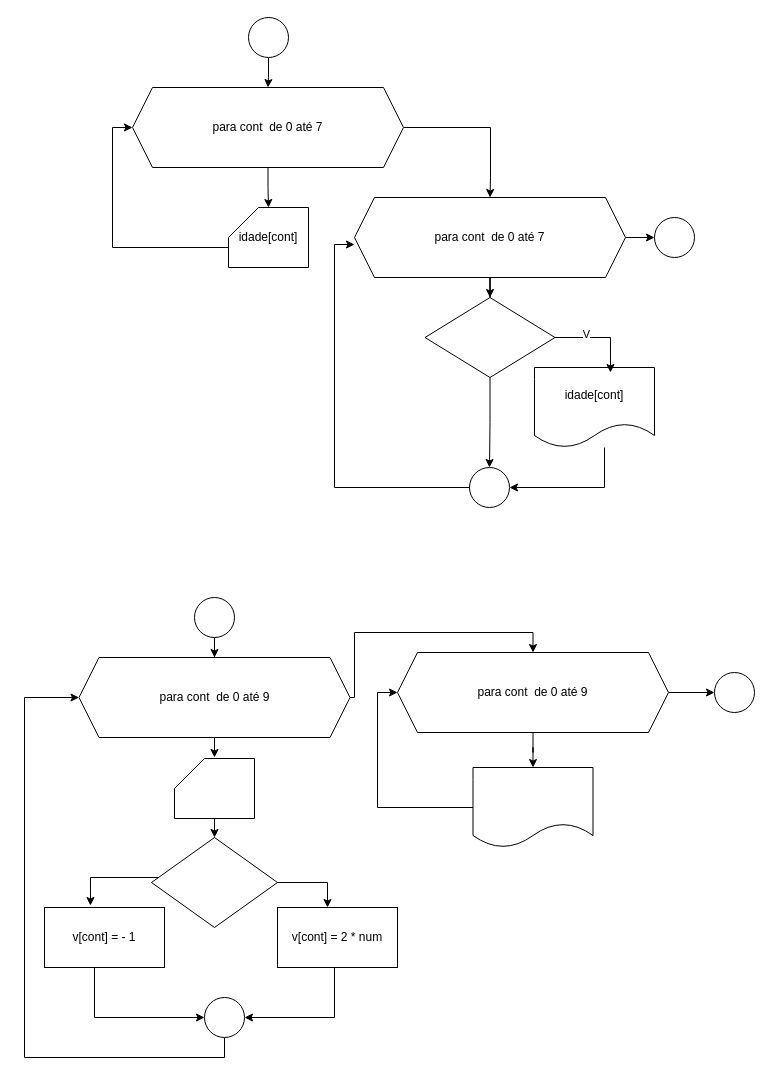
This 772x1083 diagram has some shape labels left out. The shapes that lost their labels are listed below. From the top down, each one's centre as x and y in pixels, then its label:
At (489,337): "idade[cont] < 18".
At (214,788): "num".
At (532,807): "v[cont]".
At (214,882): "num > = 0".
